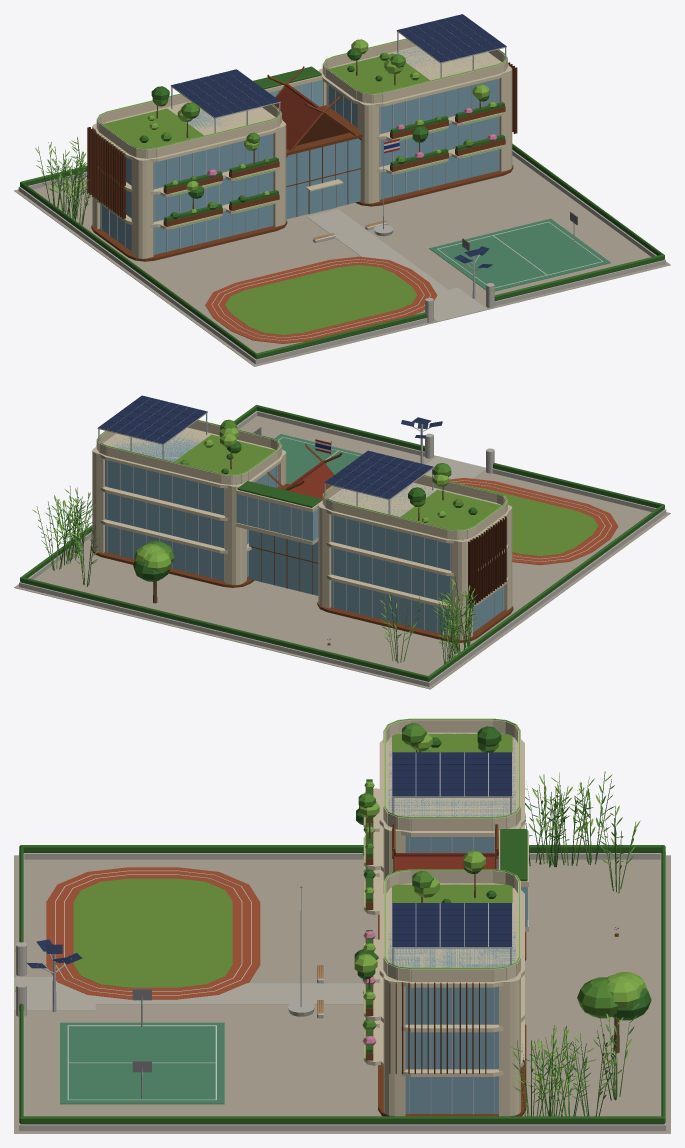
File: school.glb
The picture shows the model from 3 angles, top to bottom: view 1: azimuth 30°, elevation 25°; view 2: azimuth 150°, elevation 25°; view 3: azimuth 270°, elevation 25°; orthographic projection. The views are drawn at different scales.
Visible parts, largest first — view 1: body, windows; view 2: body, windows; view 3: body, windows.
Part boxes in pixels (left/top/right/bottom): body: left=14, top=14, right=670, bottom=366; windows: left=97, top=38, right=507, bottom=305; body: left=14, top=395, right=670, bottom=689; windows: left=97, top=419, right=507, bottom=530; body: left=14, top=719, right=670, bottom=1133; windows: left=15, top=718, right=519, bottom=1060.
Bounding box in the file's own units: 48.98 × 15.2 × 47.9.
